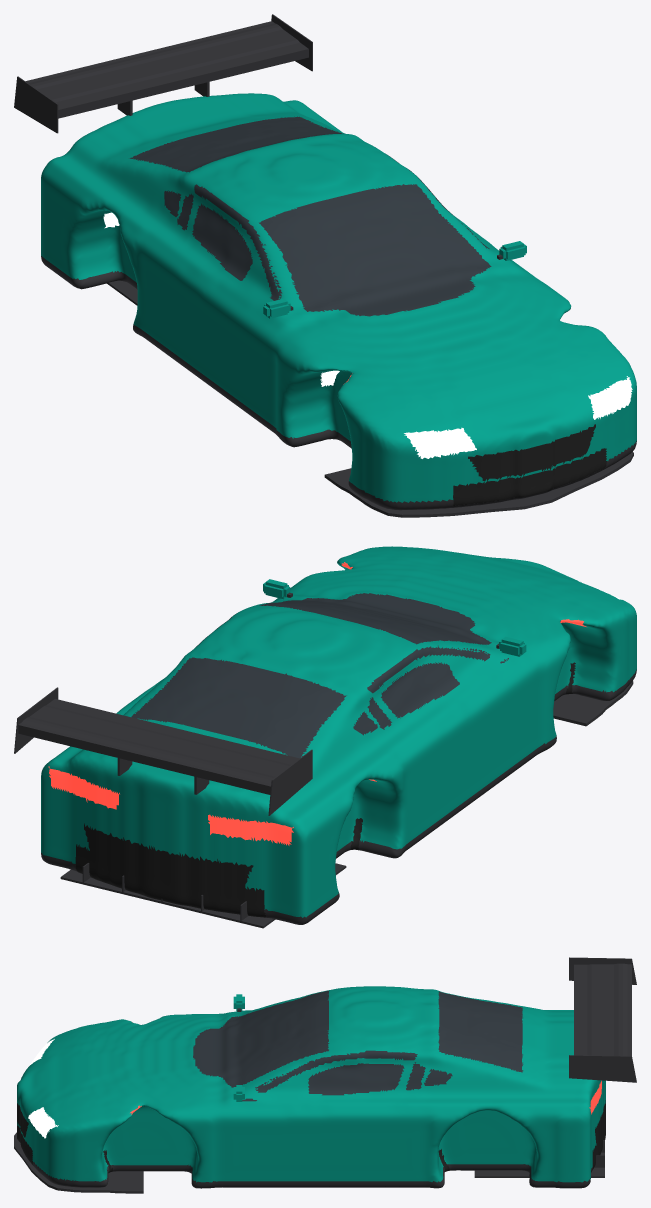
Rendered from AstonMartinVantageGT3.fbx.
The picture shows the model from 3 angles, top to bottom: view 1: azimuth 30°, elevation 25°; view 2: azimuth 150°, elevation 25°; view 3: azimuth 270°, elevation 25°; orthographic projection. The views are drawn at different scales.
Parts seen in each view (by area): view 1: Body, Wing, Splitter, WingEndplateL; view 2: Body, Wing, Diffuser, Splitter, WingEndplateL, WingEndplateR; view 3: Body, Wing, WingEndplateR, Splitter, Diffuser, WingEndplateL.
Part boxes in pixels (left/top/right/bottom): Body: left=41, top=93, right=636, bottom=510; Wing: left=25, top=21, right=308, bottom=118; Splitter: left=324, top=451, right=633, bottom=517; WingEndplateL: left=14, top=76, right=58, bottom=133; Body: left=41, top=546, right=636, bottom=924; Wing: left=18, top=699, right=299, bottom=794; Diffuser: left=60, top=863, right=346, bottom=928; Splitter: left=553, top=681, right=633, bottom=726; WingEndplateL: left=268, top=749, right=312, bottom=815; WingEndplateR: left=14, top=687, right=58, bottom=753; Body: left=17, top=986, right=605, bottom=1188; Wing: left=574, top=963, right=631, bottom=1056; WingEndplateR: left=569, top=1055, right=636, bottom=1082; Splitter: left=14, top=1132, right=143, bottom=1193; Diffuser: left=474, top=1152, right=604, bottom=1177; WingEndplateL: left=569, top=957, right=636, bottom=984.
Size of the model in its own units: 1.97 by 1.21 by 5.
